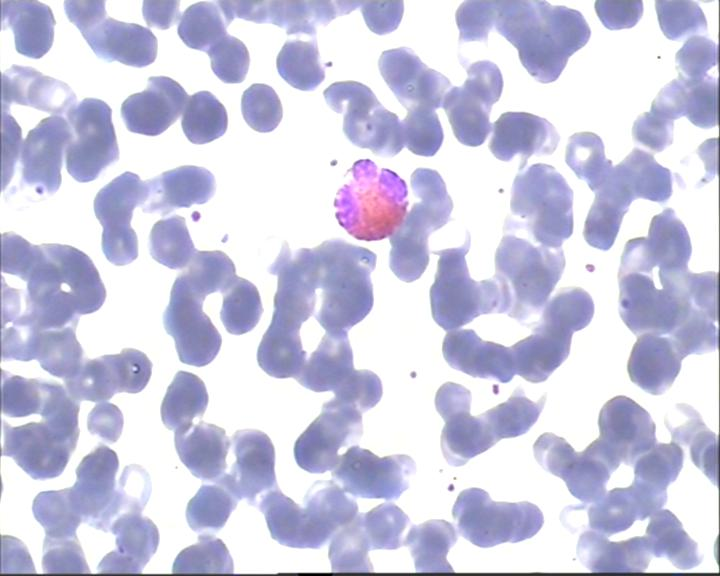eosi: (324, 151, 414, 243)
